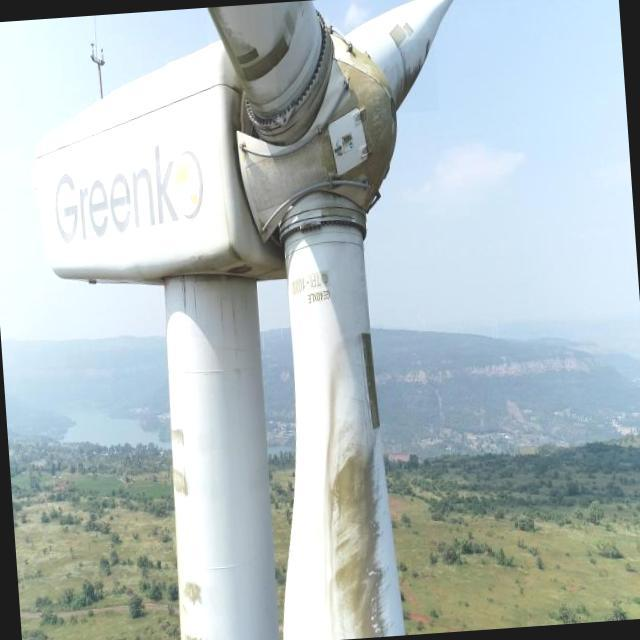Dirt: (321, 325, 382, 640)
